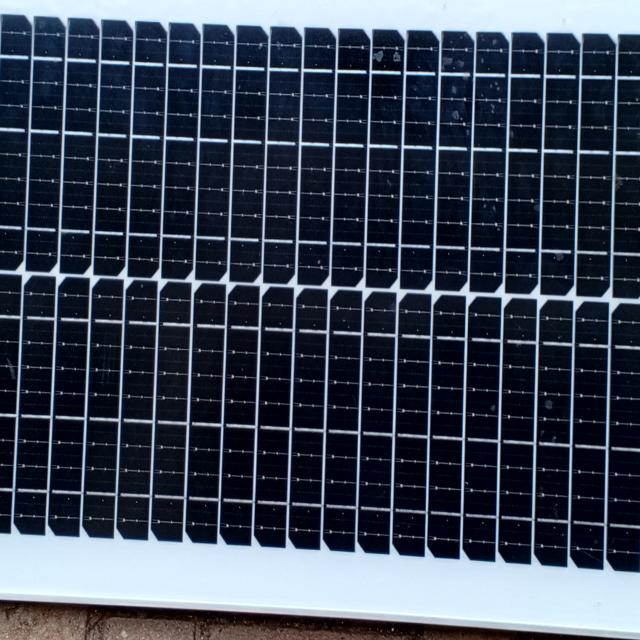Clean: (1, 1, 640, 604)
